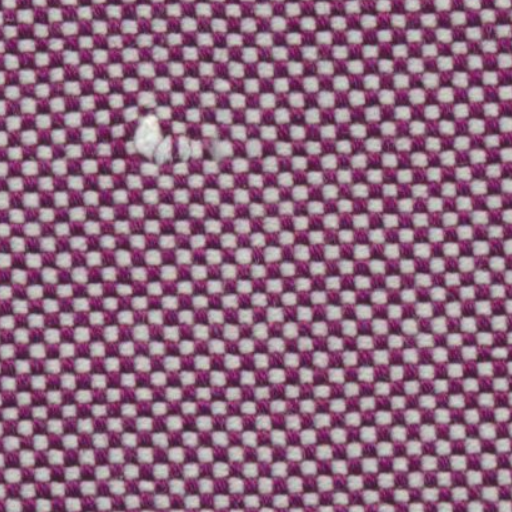MianQiu: (96, 102, 216, 204)
